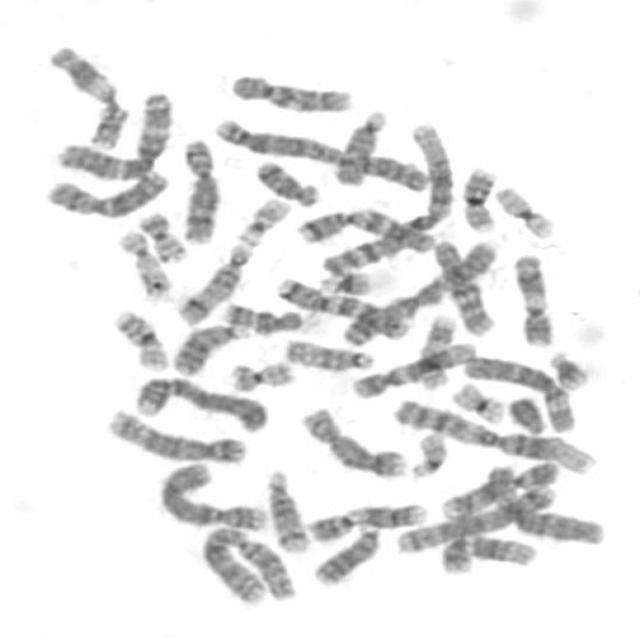A1: (310, 115, 457, 278), (386, 390, 601, 475)
A2: (203, 110, 434, 193), (193, 519, 302, 607)
A3: (334, 234, 500, 347), (50, 83, 176, 182)
B4: (127, 368, 272, 433), (150, 454, 270, 532)
B5: (389, 476, 561, 554), (98, 402, 250, 465)
C10: (423, 232, 498, 338), (221, 65, 357, 114)
C11: (41, 37, 130, 151), (507, 246, 558, 347)
C12: (345, 334, 479, 400), (432, 527, 541, 576)
C6: (480, 457, 608, 547), (457, 348, 579, 433)
C7: (269, 270, 414, 341), (288, 201, 441, 254)
C8: (292, 400, 409, 480), (173, 130, 222, 246)
C9: (433, 454, 563, 521), (301, 495, 430, 544)
D13: (305, 517, 385, 588), (165, 314, 252, 377)
D14: (169, 235, 256, 327), (259, 462, 312, 554)
D15: (325, 103, 390, 187), (277, 331, 377, 372)
E16: (106, 301, 172, 372), (453, 158, 502, 233)
E17: (110, 221, 174, 301), (411, 308, 461, 391)
E18: (248, 153, 322, 207), (213, 295, 305, 335)
F19: (488, 178, 558, 240), (444, 374, 510, 425)
F20: (131, 204, 190, 264), (222, 353, 298, 392)
G21: (541, 342, 592, 392), (311, 262, 376, 297)
G22: (228, 190, 294, 246), (404, 424, 451, 480)
X: (37, 161, 171, 220)
Y: (500, 388, 549, 436)
